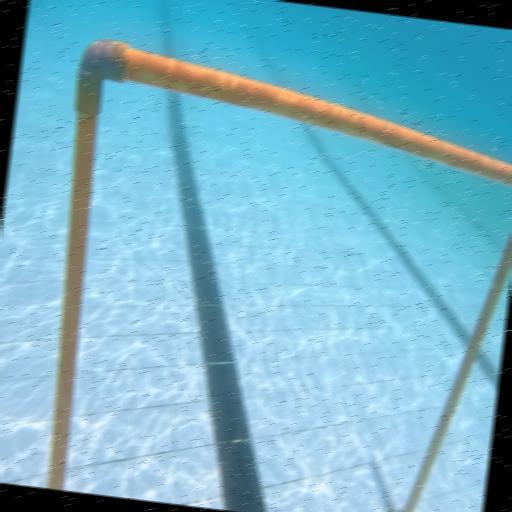gate: (25, 34, 512, 512)
